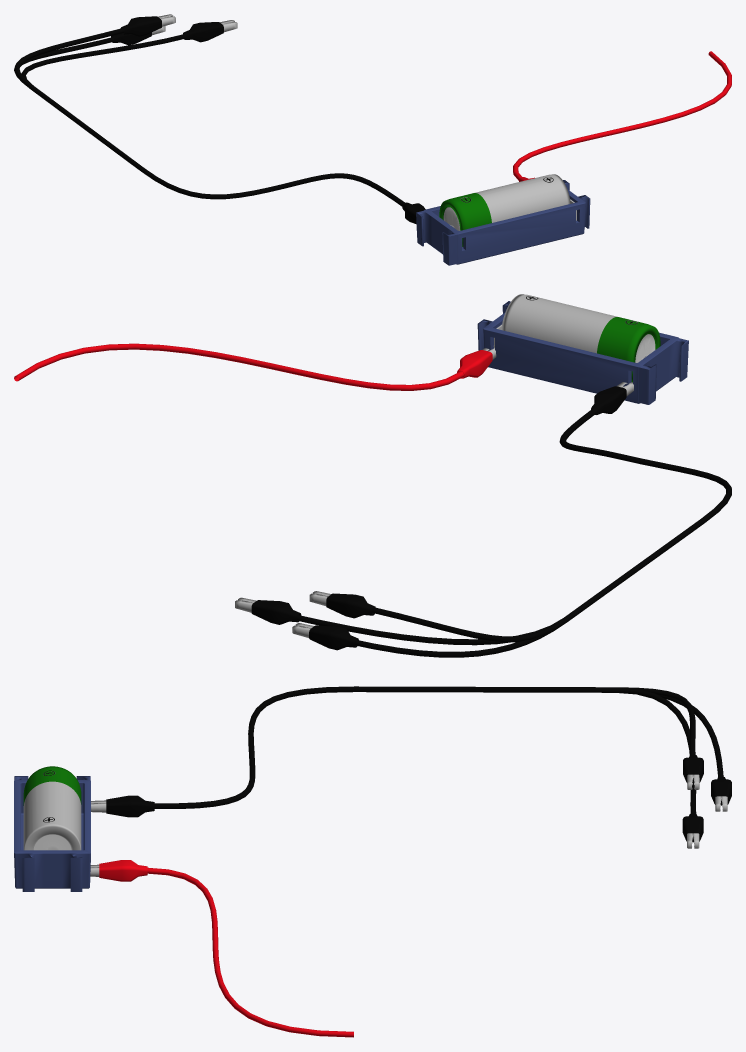
Rendered from Battery1new.glb.
3 renders of one model, top to bottom at view 1: azimuth 30°, elevation 25°; view 2: azimuth 150°, elevation 25°; view 3: azimuth 270°, elevation 25°, orthographic. The views are drawn at different scales.
Parts seen in each view (by area): view 1: Battery.003, red, red.001, red.002, Battery.001, black, Battery.002, black.002, black.001; view 2: Battery.002, Battery.001, Battery.003, red, red.001, red.002, black.001, black.002, black; view 3: Battery.003, red.001, red, Battery.001, red.002, black, Battery.002, black.001, black.002.
Boxes of the visible parts, left/top/right/bottom form: Battery.003: left=416, top=174, right=590, bottom=265; red: left=14, top=14, right=425, bottom=224; red.001: left=21, top=20, right=405, bottom=210; red.002: left=14, top=26, right=404, bottom=211; Battery.001: left=416, top=180, right=587, bottom=265; black: left=515, top=51, right=731, bottom=181; Battery.002: left=416, top=177, right=588, bottom=253; black.002: left=515, top=61, right=730, bottom=180; black.001: left=513, top=51, right=730, bottom=181; Battery.002: left=477, top=296, right=683, bottom=403; Battery.001: left=478, top=301, right=687, bottom=404; Battery.003: left=478, top=294, right=688, bottom=403; red: left=309, top=382, right=731, bottom=642; red.001: left=235, top=382, right=729, bottom=645; red.002: left=292, top=383, right=730, bottom=657; black.001: left=14, top=344, right=489, bottom=390; black.002: left=28, top=345, right=496, bottom=385; black: left=14, top=343, right=491, bottom=385; Battery.003: left=14, top=766, right=90, bottom=887; red.001: left=91, top=686, right=703, bottom=848; red: left=91, top=686, right=703, bottom=814; Battery.001: left=16, top=777, right=90, bottom=891; red.002: left=91, top=686, right=731, bottom=817; black: left=99, top=868, right=353, bottom=1037; Battery.002: left=16, top=773, right=90, bottom=891; black.001: left=90, top=860, right=353, bottom=1035; black.002: left=90, top=860, right=353, bottom=1035.
Bounding box in the file's own units: 8.01 × 0.6655 × 7.53.
Materials: 35 (3 with a texture image).
